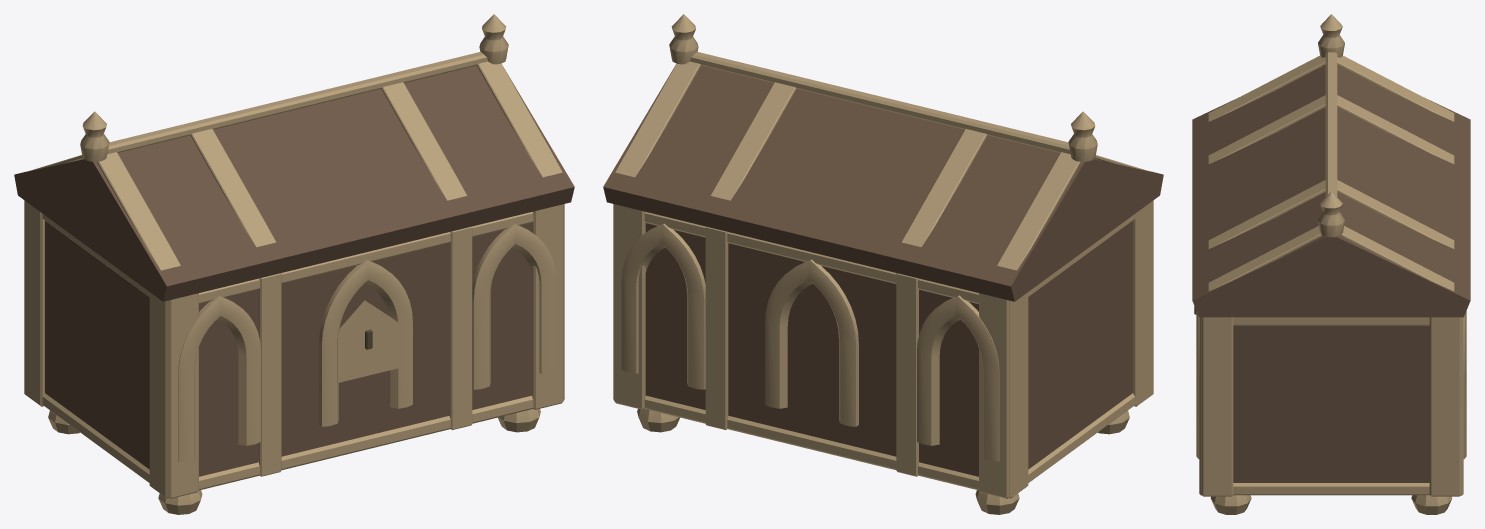
Rendered from reliquary_chest.glb.
3 renders of one model, left to right at view 1: azimuth 30°, elevation 25°; view 2: azimuth 150°, elevation 25°; view 3: azimuth 270°, elevation 25°, orthographic. The views are drawn at different scales.
Parts seen in each view (by area): view 1: reliquary_chest, chest_lid; view 2: reliquary_chest, chest_lid; view 3: chest_lid, reliquary_chest.
Part boxes in pixels (x1,y1,x2,y2): reliquary_chest: (24,200,564,514); chest_lid: (14,14,574,301); reliquary_chest: (613,200,1153,514); chest_lid: (603,14,1163,301); chest_lid: (1192,14,1470,317); reliquary_chest: (1194,306,1466,514).
Size of the model in its own units: 0.9771 by 0.8 by 0.61.
